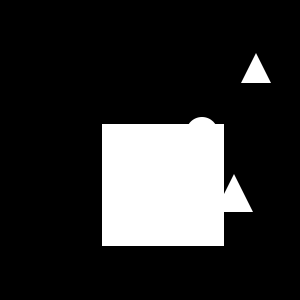circle: (102, 124, 224, 246)
rectangle: (186, 117, 218, 149)
triangle: (215, 174, 253, 212), (241, 53, 271, 83)
